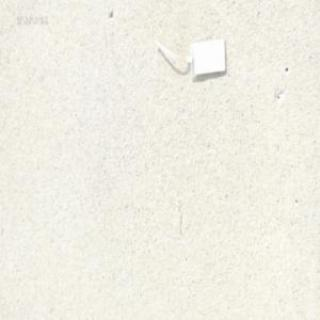LuggageTagtrack_idkeyframe: (150, 30, 228, 78)
